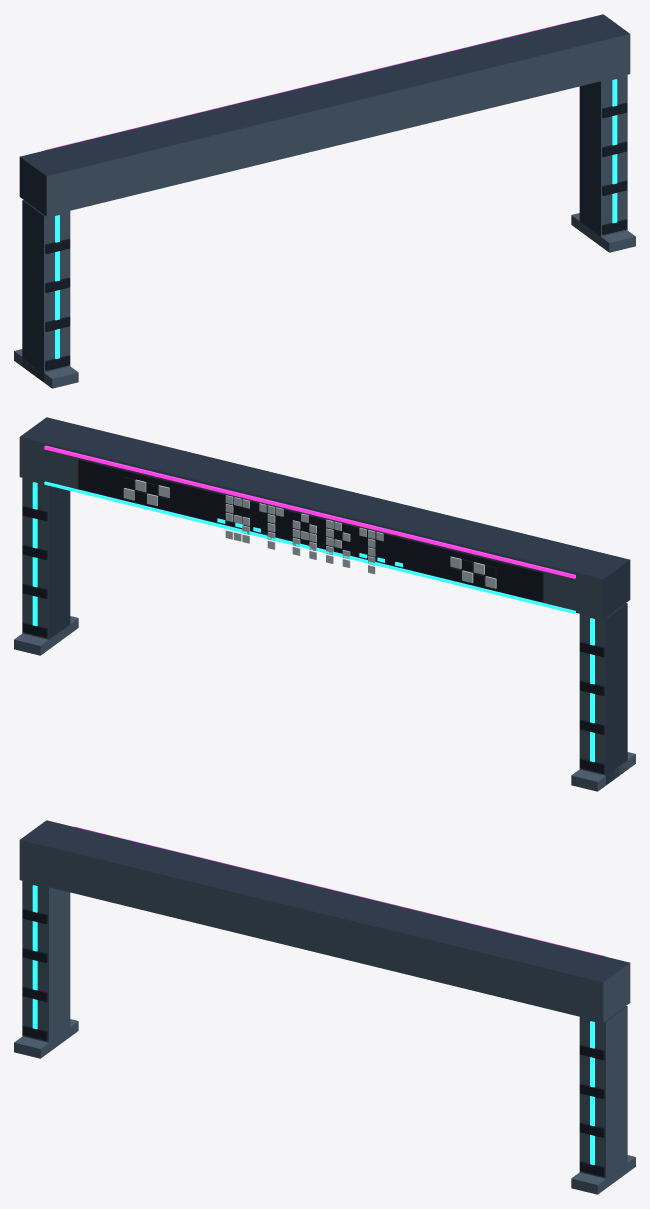
File: prop-gate-a044a986.glb
The picture shows the model from 3 angles, top to bottom: view 1: azimuth 30°, elevation 25°; view 2: azimuth 150°, elevation 25°; view 3: azimuth 330°, elevation 25°; orthographic projection.
Visible parts, largest first — view 1: prop-gate_body; view 2: prop-gate_body; view 3: prop-gate_body.
Part boxes in pixels (x1,y1,x2,y2): prop-gate_body: (14, 14, 635, 388); prop-gate_body: (14, 417, 635, 791); prop-gate_body: (14, 820, 635, 1194).
Bounding box in the file's own units: 44 × 15 × 5.
